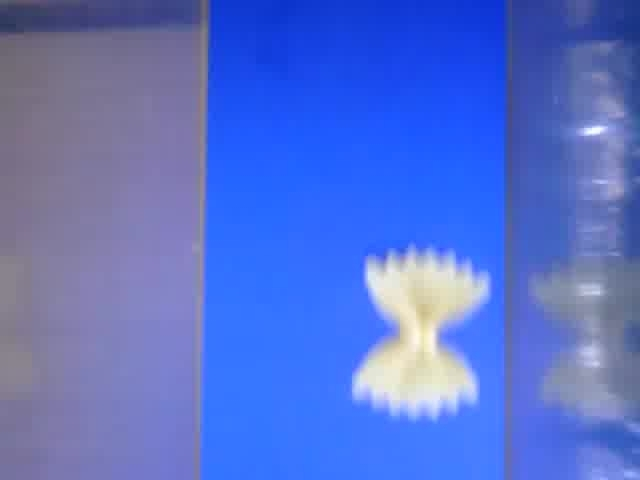farfalle: (354, 249, 492, 421)
